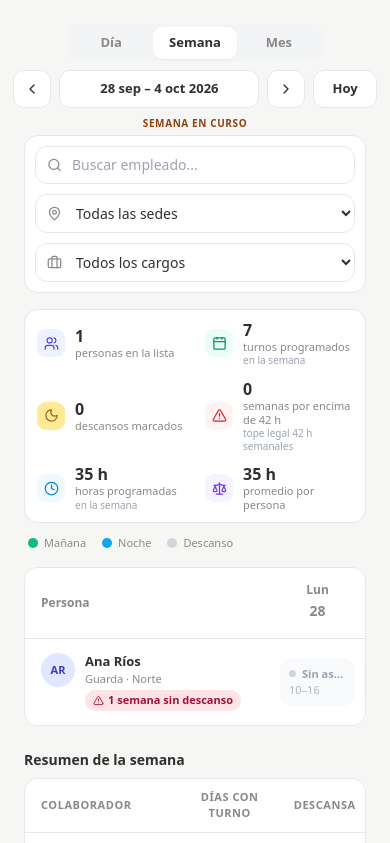
Test: llegar a la rotación › la tarjeta ofrece Rotación
The width and height of the screenshot is (390, 843).
Click the button with aria-label "marcar la semana de Ana Ríos": [150, 682] box [41, 653, 260, 711]
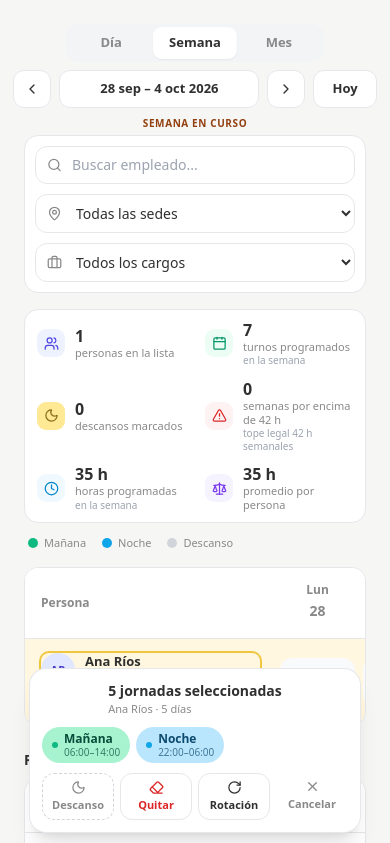
Expected: the button "Rotación" is shown, [198, 772, 270, 820]
